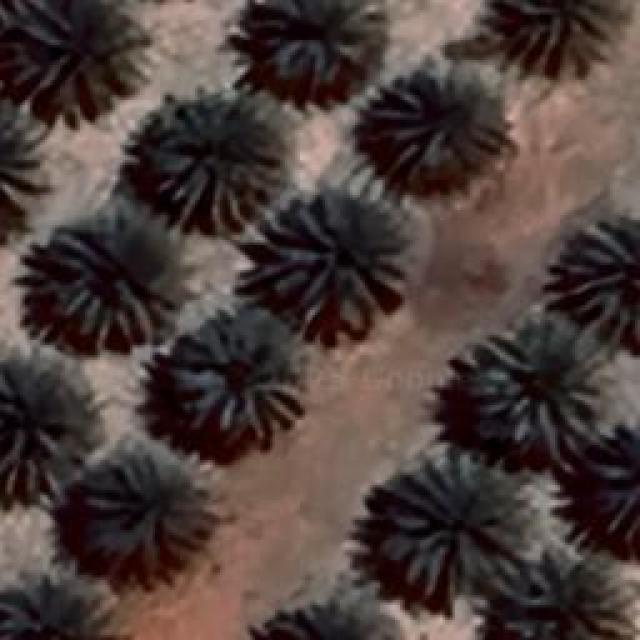PalmTree: (446, 326, 615, 468), (378, 450, 532, 602), (258, 195, 412, 340), (37, 210, 185, 348), (152, 88, 286, 230), (172, 310, 306, 440), (7, 0, 157, 112), (366, 69, 506, 184), (82, 445, 210, 570), (480, 541, 630, 640), (0, 350, 95, 502), (552, 210, 638, 340), (252, 0, 385, 72), (492, 0, 626, 70), (0, 574, 117, 640), (247, 592, 397, 640), (0, 119, 48, 255), (592, 427, 638, 545)
